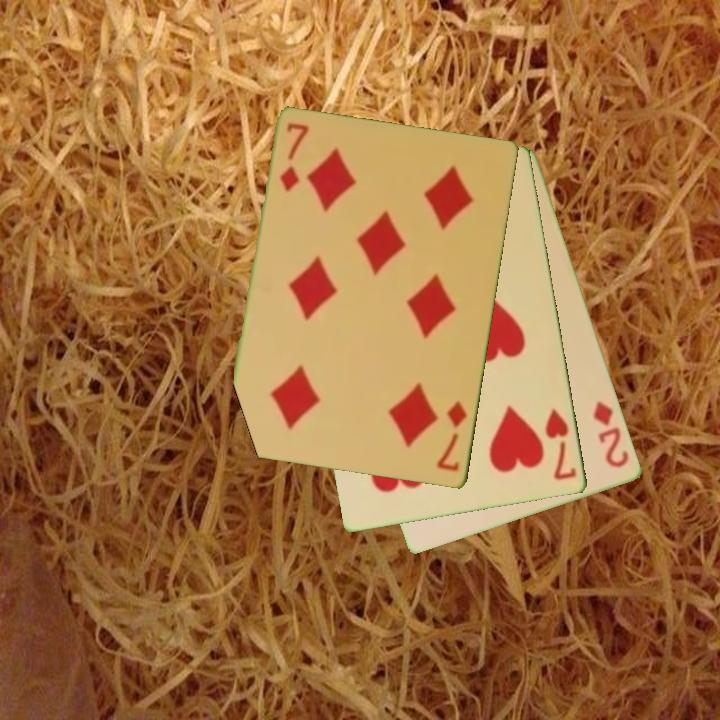2d: (590, 397, 632, 471)
7d: (434, 398, 470, 475), (277, 119, 310, 195)
7h: (542, 405, 580, 483)
